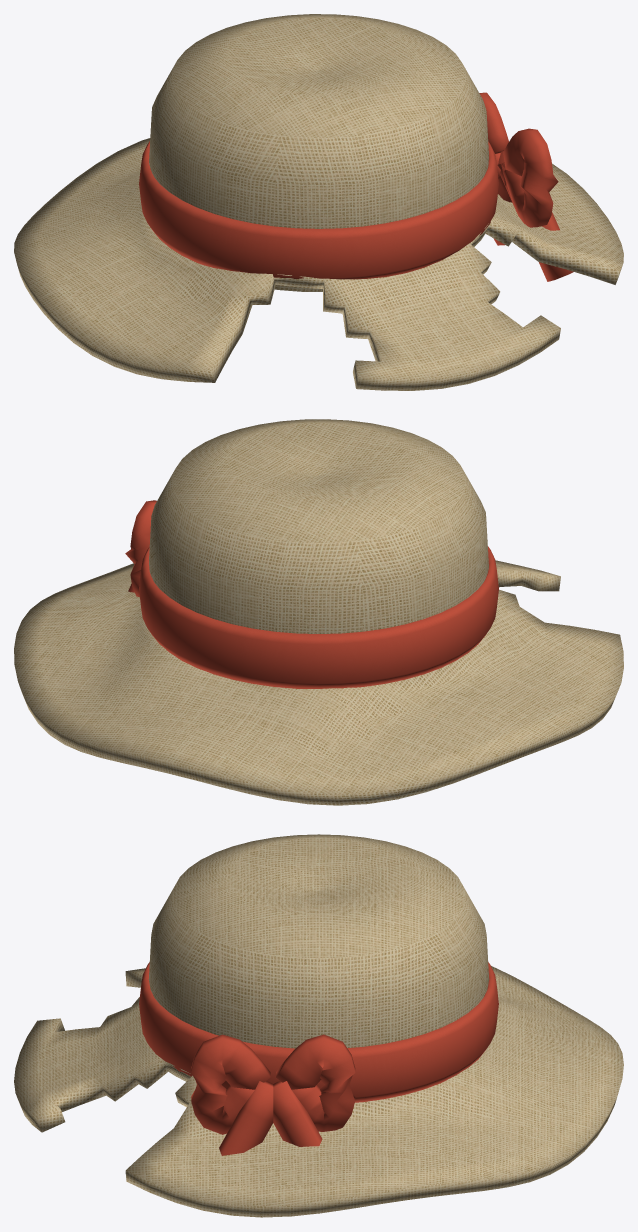
Rendered from hat.glb.
3 views of the same model, one above another, from view 1: azimuth 30°, elevation 25°; view 2: azimuth 150°, elevation 25°; view 3: azimuth 270°, elevation 25° (orthographic).
Parts seen in each view (by area): view 1: Hat; view 2: Hat; view 3: Hat.
Part boxes in pixels (box(x1,y1,x2,y2)): Hat: box(14, 14, 623, 390); Hat: box(14, 419, 623, 805); Hat: box(14, 834, 623, 1217).
Bounding box in the file's own units: 0.4 × 0.1697 × 0.4.
2 materials, 2 textured.
